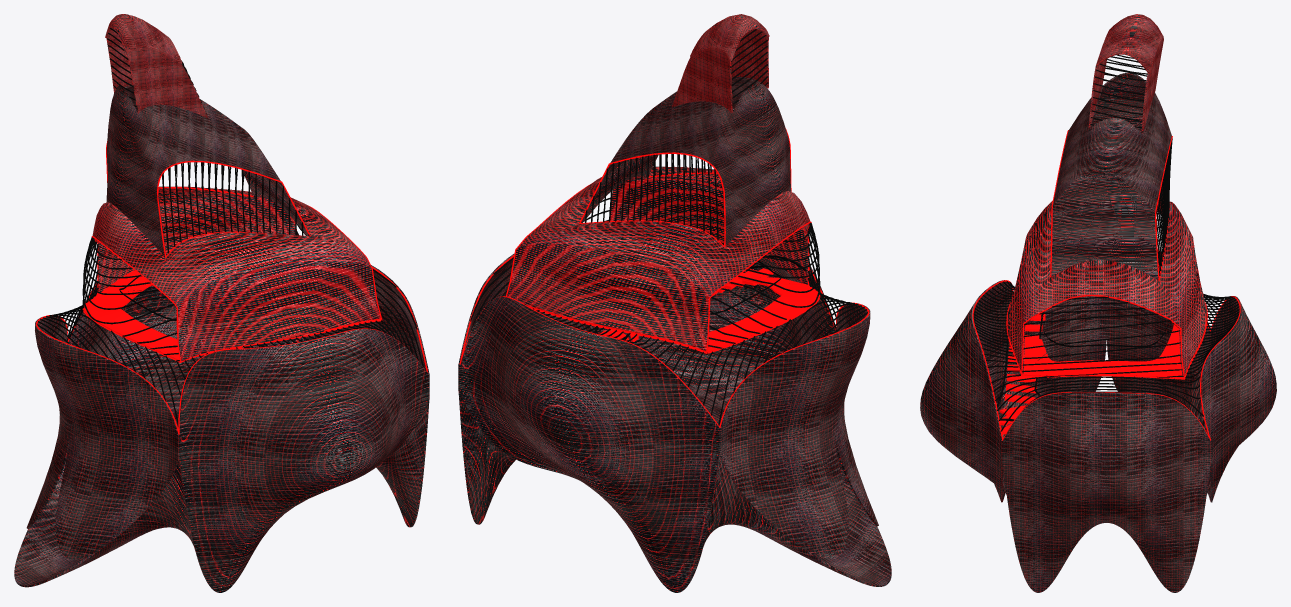
The model's file is Booth 5_Darth Elephant Pavillion [forVRM-3d Obj].glb.
The picture shows the model from 3 angles, left to right: view 1: azimuth 30°, elevation 25°; view 2: azimuth 150°, elevation 25°; view 3: azimuth 270°, elevation 25°; orthographic projection. The views are drawn at different scales.
Visible parts, largest first — view 1: GF Skin, 1F Skin, Top 1, Pipes1, Base Floor, Top2, Pipes 2, 1st FlooR; view 2: GF Skin, 1F Skin, Top 1, Base Floor, Pipes1, Top2, Pipes 2, 1st FlooR, Stair; view 3: GF Skin, Top 1, 1F Skin, Pipes1, Top2, 1st FlooR, Pipes 2, Stair, Base Floor, Railings.
Part boxes in pixels (x1,y1,x2,y2): GF Skin: (26, 265, 429, 592); 1F Skin: (92, 186, 380, 361); Top 1: (106, 85, 308, 255); Pipes1: (37, 27, 424, 426); Base Floor: (14, 335, 427, 587); Top2: (105, 14, 208, 118); Pipes 2: (36, 141, 428, 434); 1st FlooR: (83, 270, 380, 359); GF Skin: (458, 253, 878, 592); 1F Skin: (507, 166, 810, 350); Top 1: (581, 77, 791, 245); Base Floor: (460, 323, 891, 586); Pipes1: (470, 29, 867, 425); Top2: (671, 14, 769, 113); Pipes 2: (459, 128, 869, 427); 1st FlooR: (526, 283, 819, 352); Stair: (599, 268, 806, 341); GF Skin: (920, 249, 1276, 592); Top 1: (1050, 73, 1171, 279); 1F Skin: (1007, 199, 1206, 377); Pipes1: (973, 54, 1239, 431); Top2: (1088, 14, 1163, 133); 1st FlooR: (1008, 265, 1207, 378); Pipes 2: (972, 130, 1240, 440); Stair: (999, 314, 1045, 434); Base Floor: (1002, 354, 1210, 501); Railings: (997, 312, 1169, 421).
Size of the model in its own units: 12.69 by 16.19 by 10.98.
Materials: 7 (4 with a texture image).
